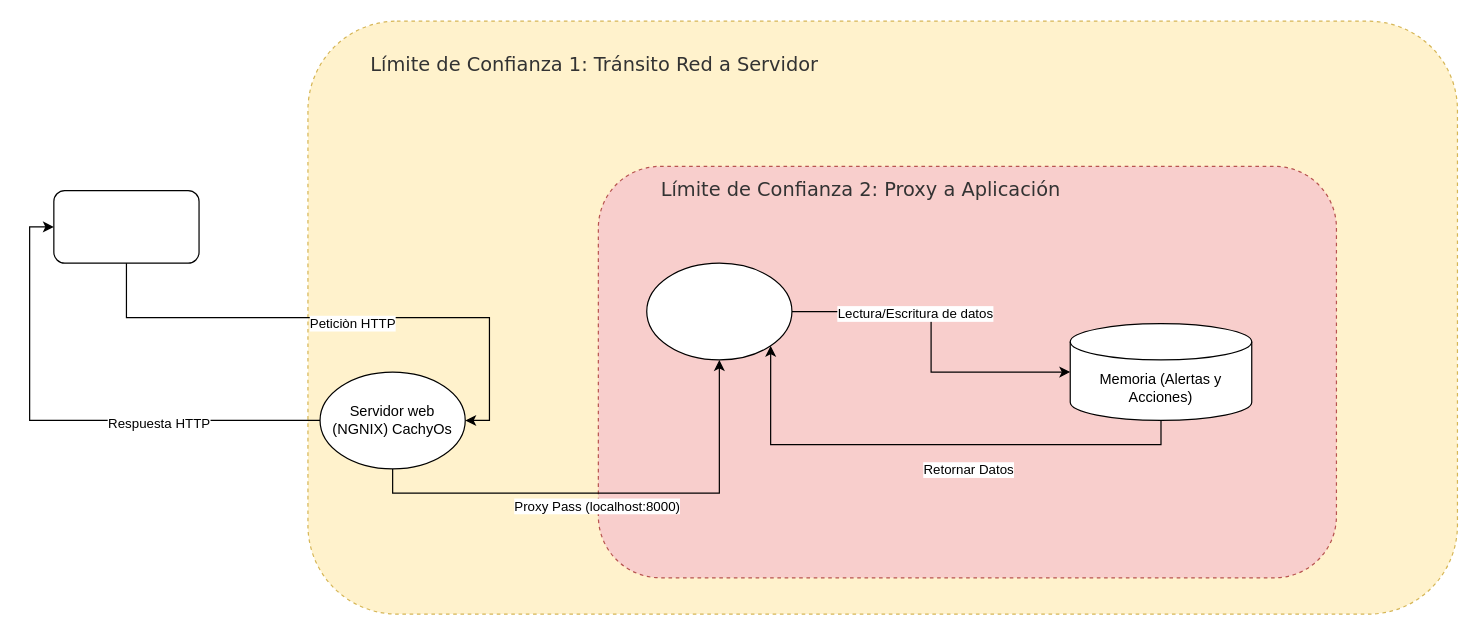
This 1479x635 diagram has some shape labels left out. Each missing label, with the box of its shape:
<<External>> Usuario / Red Team (Kali): (53, 189, 199, 263)
API de Alertas (FastAPI): (646, 262, 792, 360)
